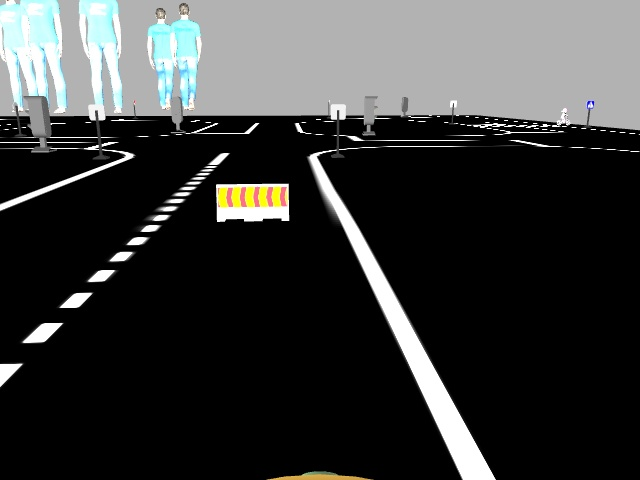ClosedRoadStand: (215, 184, 287, 221)
